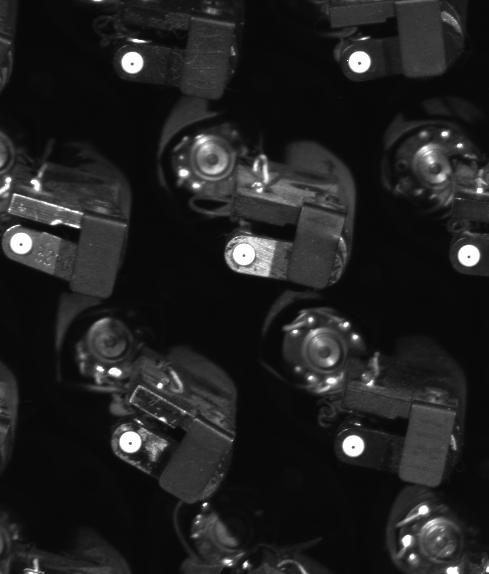fiber: (108, 422, 151, 462), (227, 238, 266, 274), (343, 45, 379, 80), (7, 228, 44, 261), (455, 238, 486, 277), (114, 45, 150, 77), (336, 429, 372, 461)
